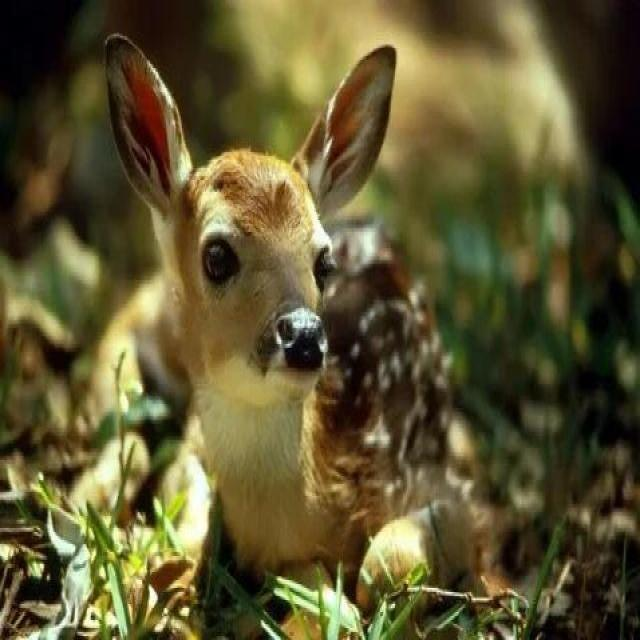deer: (146, 114, 484, 553)
